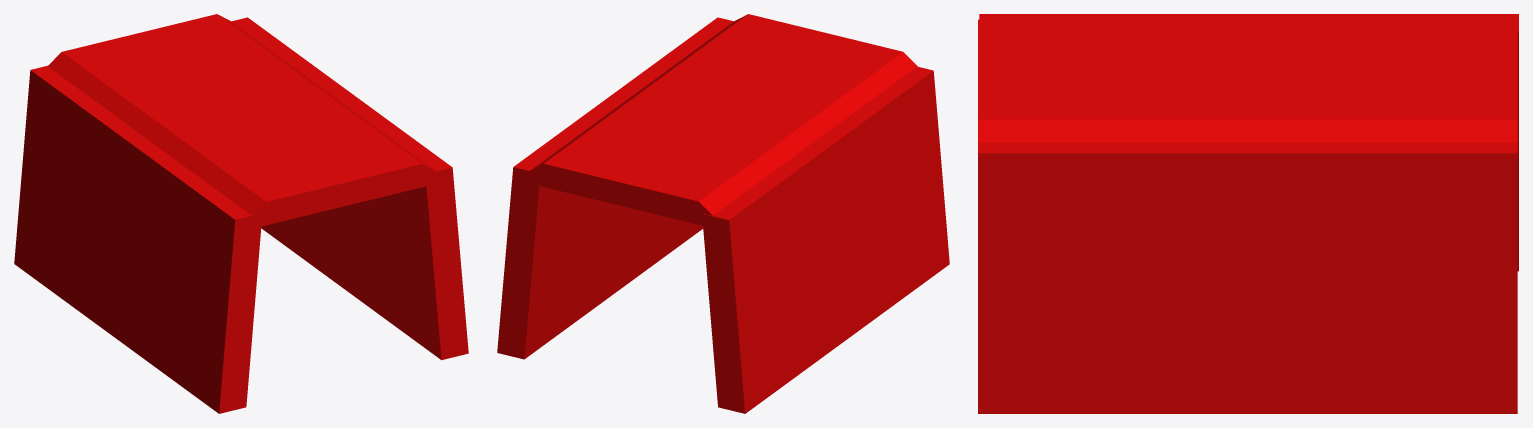
Rendered from SM_Bld_Quarantine_Tent_Corridor_01_Collision.fbx.
The picture shows the model from 3 angles, left to right: view 1: azimuth 30°, elevation 25°; view 2: azimuth 150°, elevation 25°; view 3: azimuth 270°, elevation 25°; orthographic projection. The views are drawn at different scales.
Visible parts, largest first — view 1: SM_Bld_Quarantine_Tent_Corridor_01_Collision; view 2: SM_Bld_Quarantine_Tent_Corridor_01_Collision; view 3: SM_Bld_Quarantine_Tent_Corridor_01_Collision.
Part boxes in pixels (x1,y1,x2,y2): SM_Bld_Quarantine_Tent_Corridor_01_Collision: [14, 14, 468, 413]; SM_Bld_Quarantine_Tent_Corridor_01_Collision: [497, 14, 949, 413]; SM_Bld_Quarantine_Tent_Corridor_01_Collision: [978, 14, 1518, 413].
Bounding box in the file's own units: 331 × 255 × 472.
